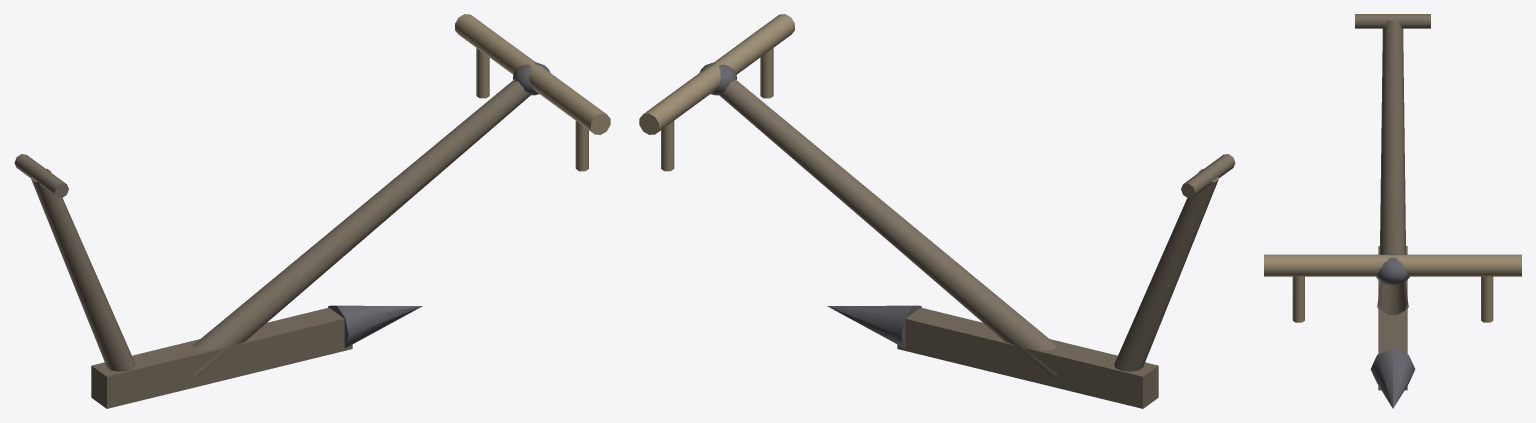
The model's file is neangkoal.glb.
3 views of the same model, side by side, from view 1: azimuth 30°, elevation 25°; view 2: azimuth 150°, elevation 25°; view 3: azimuth 270°, elevation 25° (orthographic). The views are drawn at different scales.
Size of the model in its own units: 2.4 by 1.12 by 1.09.
